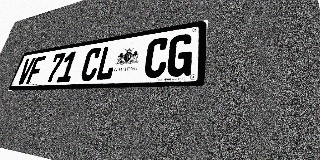1: (56, 51, 79, 83)
7: (44, 53, 66, 83)
C: (142, 36, 170, 78), (79, 47, 103, 81)
F: (26, 56, 46, 84)
G: (165, 33, 194, 77)
L: (94, 44, 119, 81)
V: (16, 57, 36, 85)
